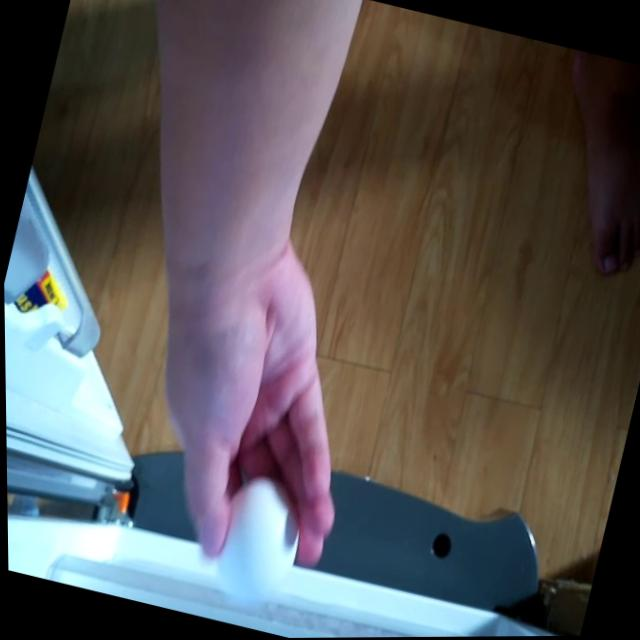egg: (200, 467, 311, 617)
